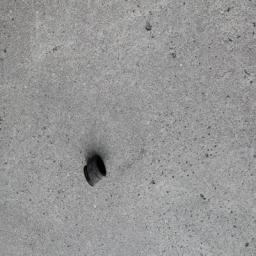FOD: (80, 154, 111, 190)
